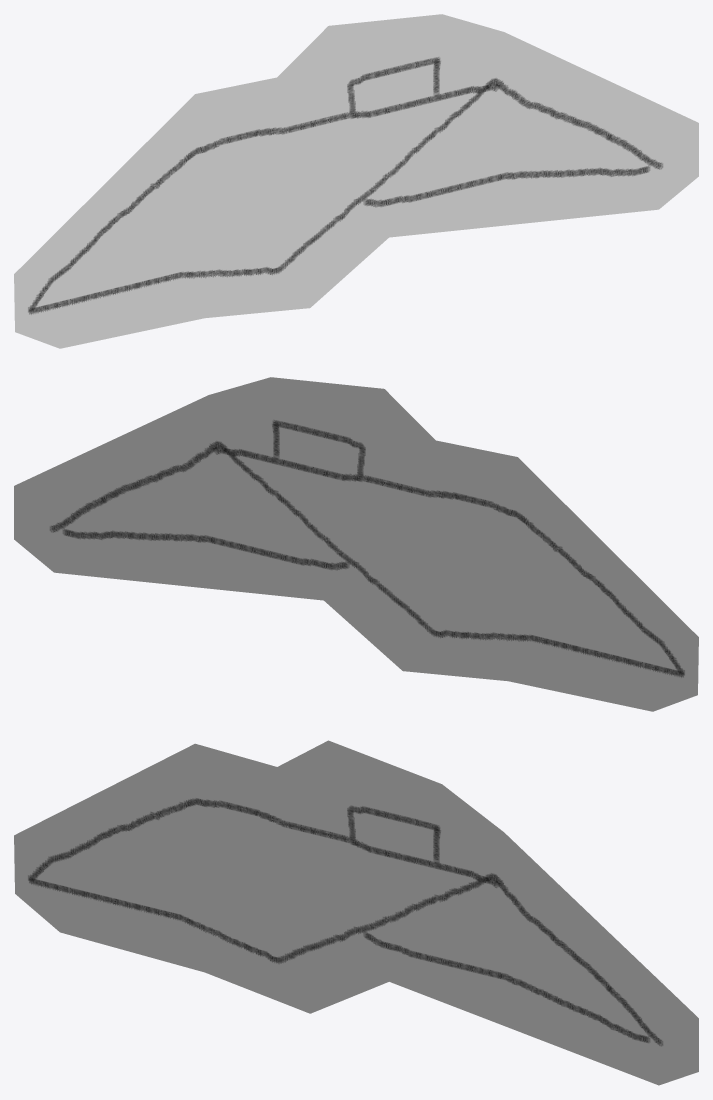
The model's file is Hustak.fbx.
3 views of the same model, one above another, from view 1: azimuth 30°, elevation 25°; view 2: azimuth 150°, elevation 25°; view 3: azimuth 330°, elevation 25° (orthographic).
Parts seen in each view (by area): view 1: Plane.018; view 2: Plane.018; view 3: Plane.018.
Boxes of the visible parts, bbox=[...] form: Plane.018: bbox=[14, 14, 698, 348]; Plane.018: bbox=[14, 377, 698, 711]; Plane.018: bbox=[14, 740, 698, 1085].
Bounding box in the file's own units: 115 × 44.45 × 7.24e-06.
1 material, 1 textured.
